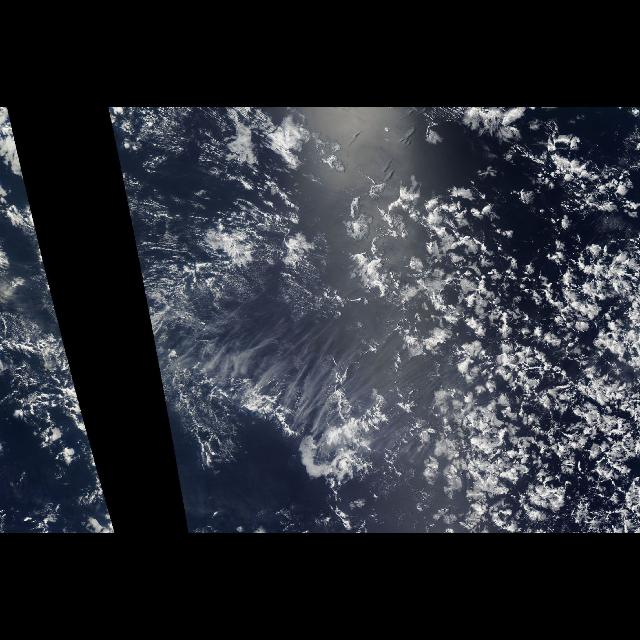Flower: (347, 110, 638, 530)
Sugar: (144, 152, 356, 310)
